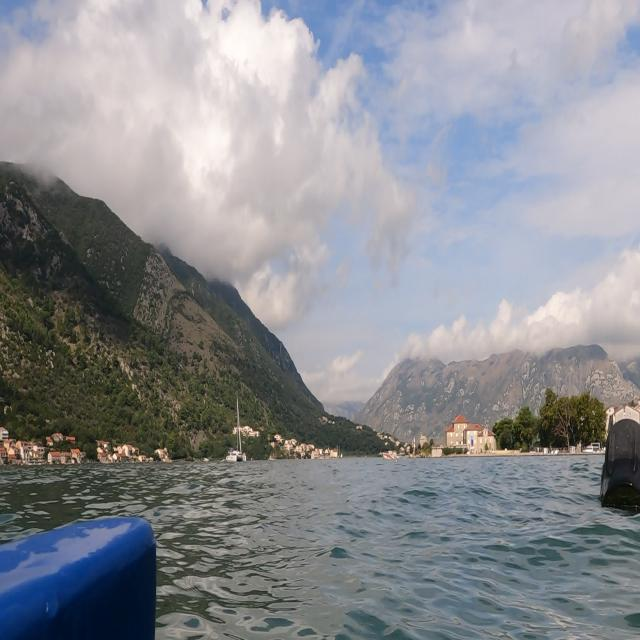boat: (221, 378, 253, 473)
buoy: (590, 404, 640, 526)
